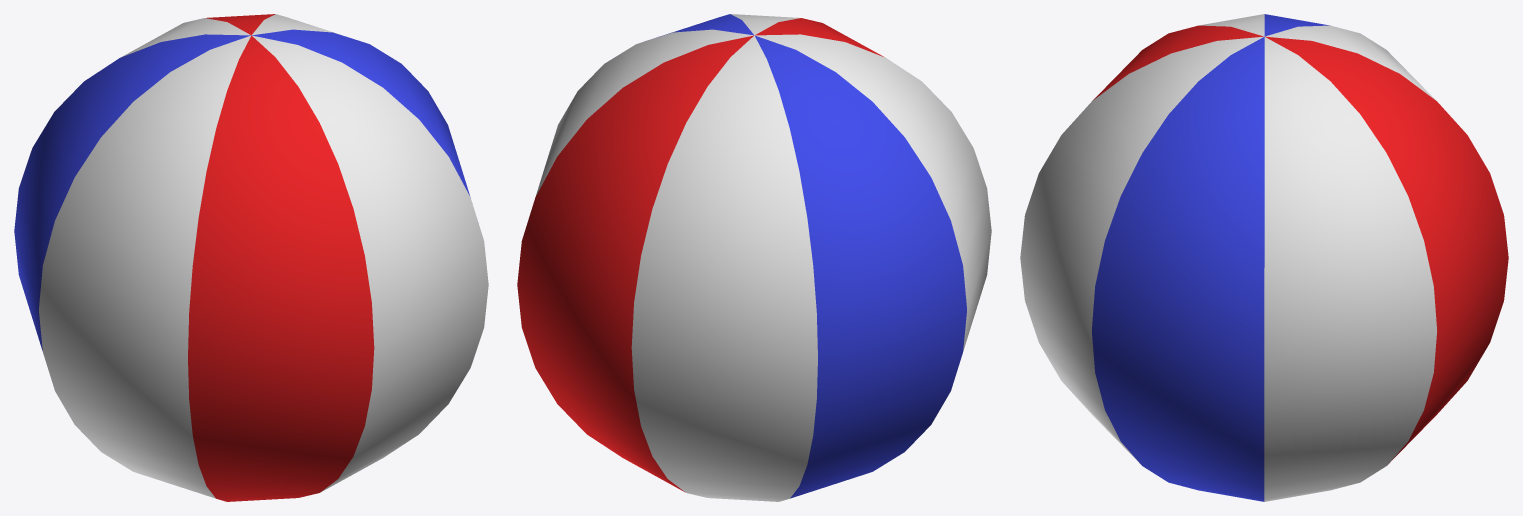
Rendered from beachBall.fbx.
The picture shows the model from 3 angles, left to right: view 1: azimuth 30°, elevation 25°; view 2: azimuth 150°, elevation 25°; view 3: azimuth 270°, elevation 25°; orthographic projection.
Parts seen in each view (by area): view 1: 球.001; view 2: 球.001; view 3: 球.001.
Boxes of the visible parts, bbox=[...] form: 球.001: bbox=[14, 14, 488, 501]; 球.001: bbox=[517, 14, 991, 501]; 球.001: bbox=[1020, 14, 1508, 501].
Bounding box in the file's own units: 35.79 × 35.79 × 35.79.
